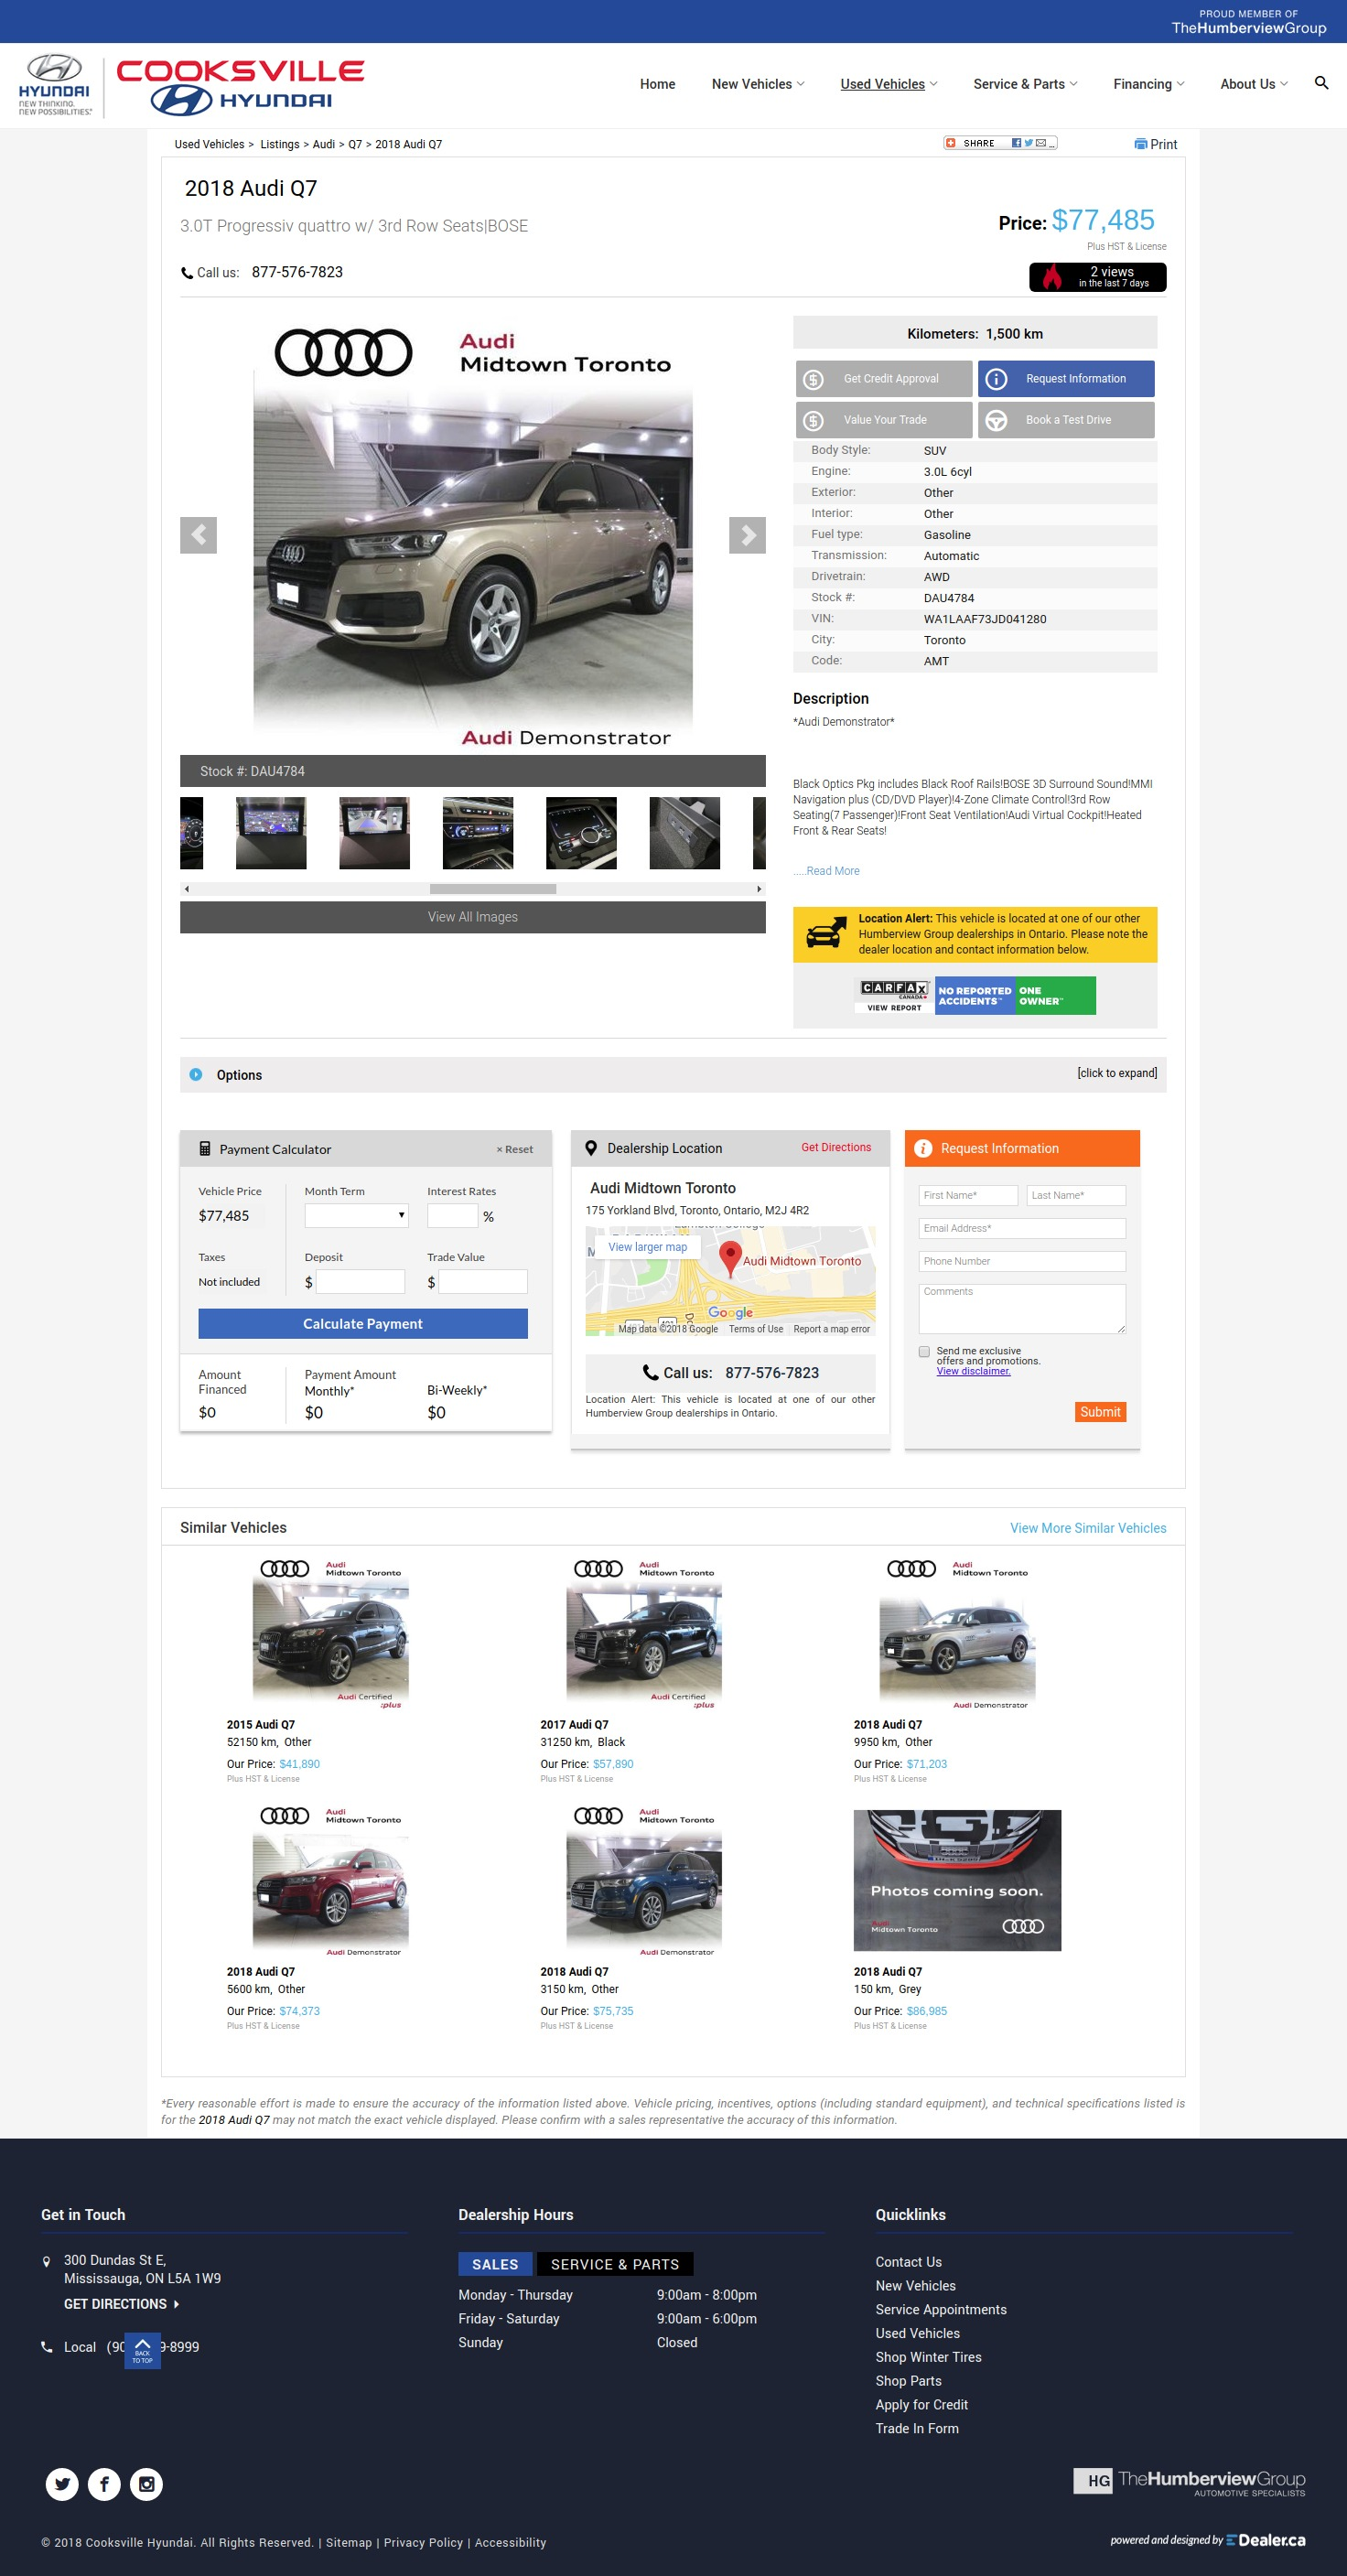car: (758, 886, 763, 894)
